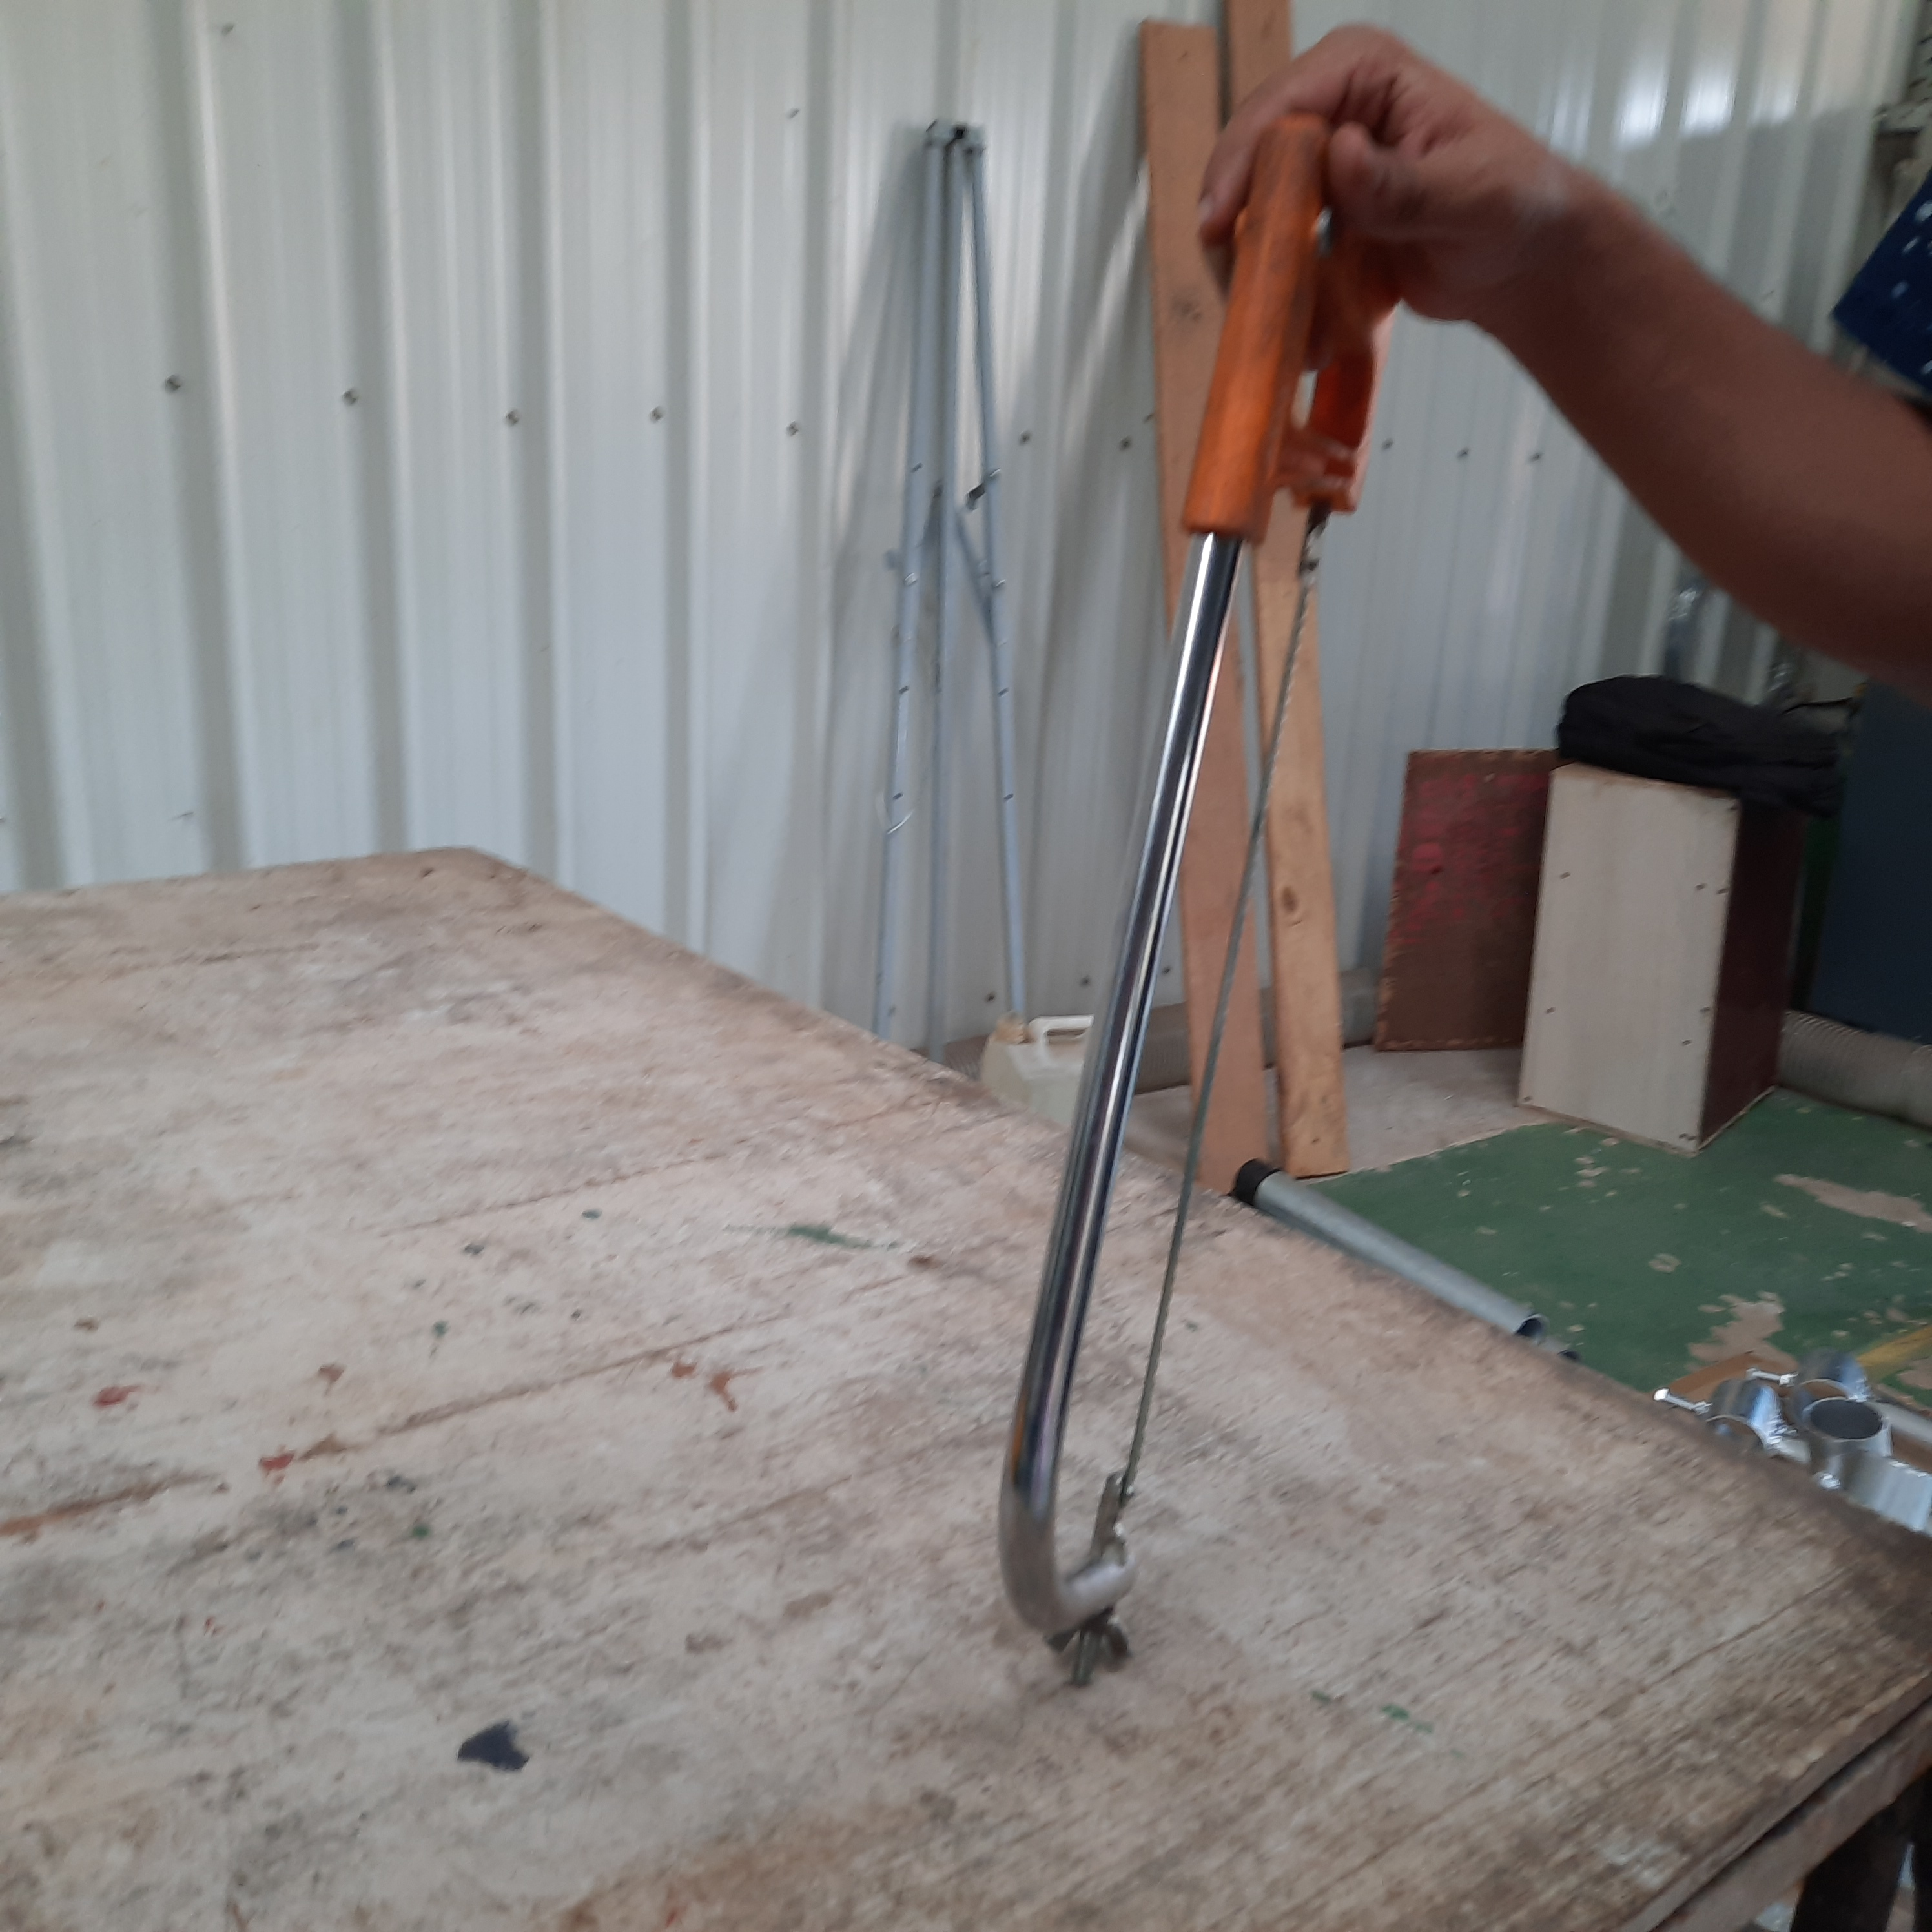Hexaframe: (968, 99, 1407, 1713)
